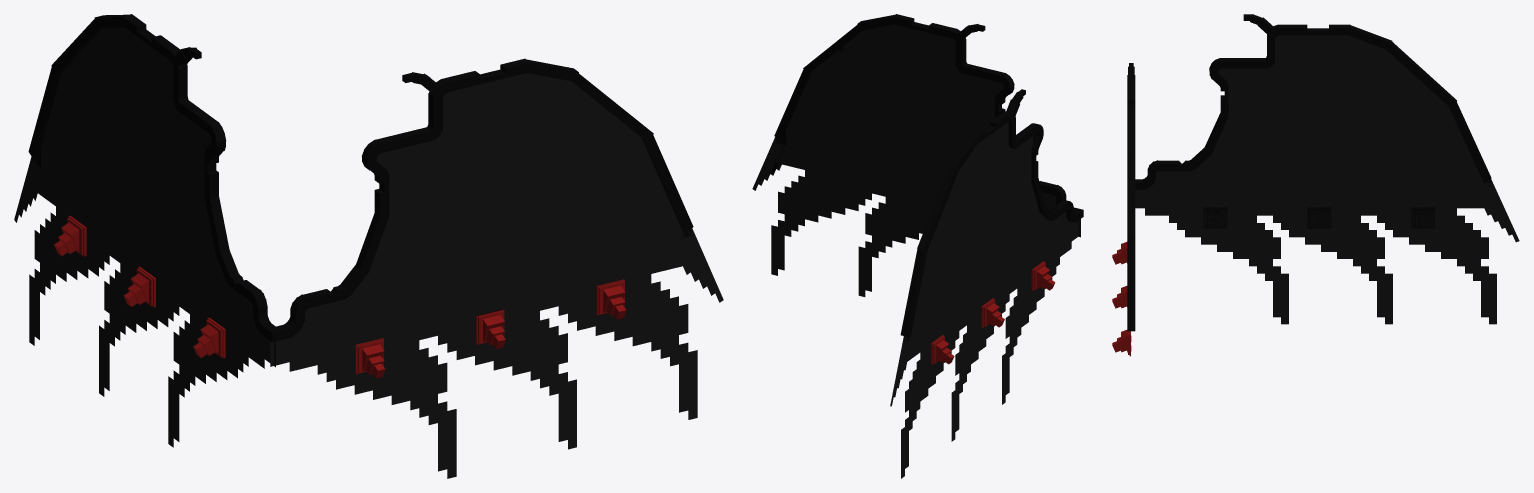
The model's file is halloween_wings_3.glb.
The picture shows the model from 3 angles, left to right: view 1: azimuth 30°, elevation 25°; view 2: azimuth 150°, elevation 25°; view 3: azimuth 270°, elevation 25°; orthographic projection. The views are drawn at different scales.
Parts seen in each view (by area): view 1: cube.185, cube.043, cube.212, cube.187, cube.186, cube.070, cube.188, cube.045, cube.044, cube.046, cube.207, cube.183 (+25 smaller); view 2: cube.185, cube.043, cube.187, cube.070, cube.212, cube.188, cube.045, cube.044, cube.186, cube.046, cube.041, cube.038 (+17 smaller); view 3: cube.043, cube.070, cube.045, cube.044, cube.046, cube.065, cube.038, cube.041, cube.183, cube.180, cube.087, cube.103 (+21 smaller).
Boxes of the visible parts, x1,y1,x2,y2 form: cube.185: [433, 73, 538, 298]; cube.043: [121, 27, 181, 270]; cube.212: [270, 236, 691, 366]; cube.187: [538, 85, 589, 273]; cube.186: [382, 141, 433, 311]; cube.070: [33, 162, 275, 367]; cube.188: [589, 130, 640, 260]; cube.045: [92, 31, 121, 225]; cube.044: [182, 114, 211, 291]; cube.046: [62, 66, 91, 204]; cube.207: [299, 285, 382, 331]; cube.183: [642, 135, 693, 232]; cube.185: [887, 24, 962, 183]; cube.043: [967, 122, 1011, 297]; cube.187: [850, 33, 886, 169]; cube.070: [903, 221, 1078, 364]; cube.212: [776, 143, 1080, 237]; cube.188: [813, 65, 849, 160]; cube.045: [946, 168, 967, 312]; cube.044: [1011, 136, 1032, 264]; cube.186: [962, 73, 999, 145]; cube.046: [925, 226, 946, 328]; cube.041: [900, 248, 927, 336]; cube.038: [917, 168, 957, 252]; cube.043: [1269, 35, 1359, 187]; cube.070: [1135, 187, 1491, 208]; cube.045: [1359, 53, 1403, 187]; cube.044: [1225, 68, 1268, 187]; cube.046: [1403, 97, 1447, 187]; cube.065: [1150, 167, 1224, 187]; cube.038: [1386, 42, 1456, 108]; cube.041: [1449, 102, 1491, 183]; cube.183: [1127, 240, 1135, 331]; cube.180: [1127, 153, 1135, 239]; cube.087: [1249, 208, 1352, 215]; cube.103: [1353, 208, 1456, 215].
Bounding box in the file's own units: 3.18 × 2.66 × 3.18.
1 material, 1 textured.
